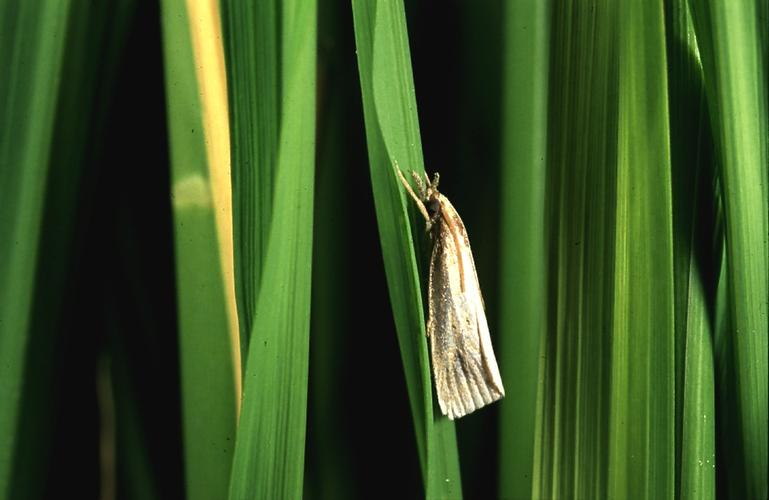Crambidae: (392, 156, 504, 423)
